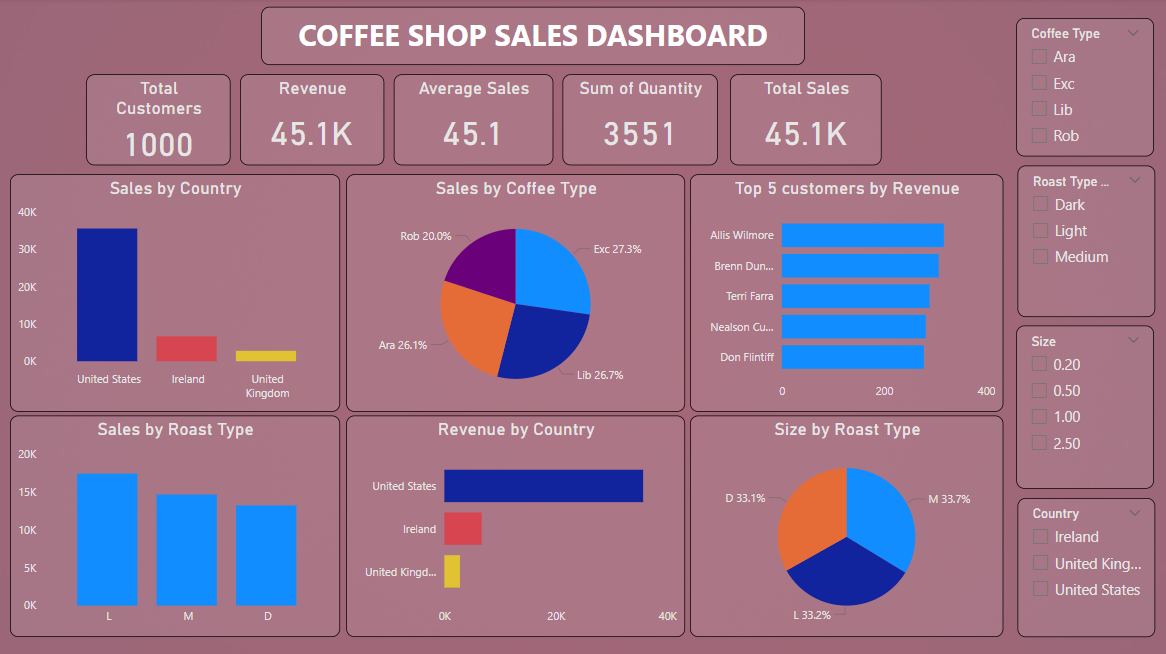

Layout of this report page (visuals, bound fields, positions):
{"tool":"powerbi","page":{"name":"Page 1","canvas":[1280,720],"ordinal":0},"visuals":[{"type":"card","title":"Total Customers","fields":{"Values":["Table2.Customer ID"]},"box":[94.4,83.3,158.3,100],"z":0},{"type":"card","title":"Revenue","fields":{"Values":["Table2.Revenue"]},"box":[263.8,83.3,158.3,100],"z":1000},{"type":"card","title":"Average Sales","fields":{"Values":["Table2.Sales"]},"box":[431.9,83.3,175,100],"z":2000},{"type":"card","title":"Sum of Quantity","fields":{"Values":["Table2.Quantity"]},"box":[617.9,83.3,170.8,100],"z":3000},{"type":"card","title":"Total Sales","fields":{"Values":["Table2.Sales"]},"box":[801.2,83.3,166.6,100],"z":4000},{"type":"columnChart","title":"Sales by Country","fields":{"Category":["Table2.Country"],"Y":["Table2.Sales"]},"box":[11,193.5,362.3,260.7],"z":5000},{"type":"columnChart","title":"Sales by Roast Type","fields":{"Category":["Table2.Roast Type"],"Y":["Table2.Sales"]},"box":[11.1,458.2,362.4,243],"z":6000},{"type":"pieChart","title":"Sales by Coffee Type","fields":{"Category":["Table2.Coffee Type"],"Y":["Table2.Sales"]},"box":[380.5,193,372.1,261.1],"z":7000},{"type":"barChart","title":"Revenue by Country","fields":{"Y":["Table2.Revenue"],"Category":["Table2.Country"]},"box":[380.5,458.2,372.1,243],"z":8000},{"type":"pieChart","title":"Size by Roast Type","fields":{"Category":["Table2.Roast Type"],"Y":["Table2.Size"]},"box":[756.8,458.2,344.4,243],"z":9000},{"type":"slicer","fields":{"Values":["Table2.Coffee Type"]},"box":[1115.6,22,150.9,152.3],"z":10000},{"type":"slicer","fields":{"Values":["Table2.Roast Type Name"]},"box":[1116.4,183.3,151.4,166.6],"z":11000},{"type":"slicer","fields":{"Values":["Table2.Size"]},"box":[1115,359.6,151.4,179.1],"z":12000},{"type":"slicer","fields":{"Values":["Table2.Country"]},"box":[1116.4,548.5,151.4,152.7],"z":13000},{"type":"barChart","title":"Top 5 customers by Revenue","fields":{"Category":["Table2.Customer Name"],"Y":["Table2.Revenue"]},"box":[756.8,193,344.4,261.1],"z":14000},{"type":"textbox","box":[287.4,9.7,597.1,63.9],"z":14001}]}

Visuals, with their boxes in screenshot pixels (x1, y1, x2, y2), scaled from the page's 1280x720 canvas onto the 1166x654 screenshot:
"Total Customers" card: (x1=86, y1=76, x2=230, y2=166)
"Revenue" card: (x1=240, y1=76, x2=385, y2=166)
"Average Sales" card: (x1=393, y1=76, x2=553, y2=166)
"Sum of Quantity" card: (x1=563, y1=76, x2=718, y2=166)
"Total Sales" card: (x1=730, y1=76, x2=882, y2=166)
"Sales by Country" columnChart: (x1=10, y1=176, x2=340, y2=413)
"Sales by Roast Type" columnChart: (x1=10, y1=416, x2=340, y2=637)
"Sales by Coffee Type" pieChart: (x1=347, y1=175, x2=686, y2=412)
"Revenue by Country" barChart: (x1=347, y1=416, x2=686, y2=637)
"Size by Roast Type" pieChart: (x1=689, y1=416, x2=1003, y2=637)
slicer - Table2.Coffee Type: (x1=1016, y1=20, x2=1154, y2=158)
slicer - Table2.Roast Type Name: (x1=1017, y1=166, x2=1155, y2=318)
slicer - Table2.Size: (x1=1016, y1=327, x2=1154, y2=489)
slicer - Table2.Country: (x1=1017, y1=498, x2=1155, y2=637)
"Top 5 customers by Revenue" barChart: (x1=689, y1=175, x2=1003, y2=412)
textbox: (x1=262, y1=9, x2=806, y2=67)
